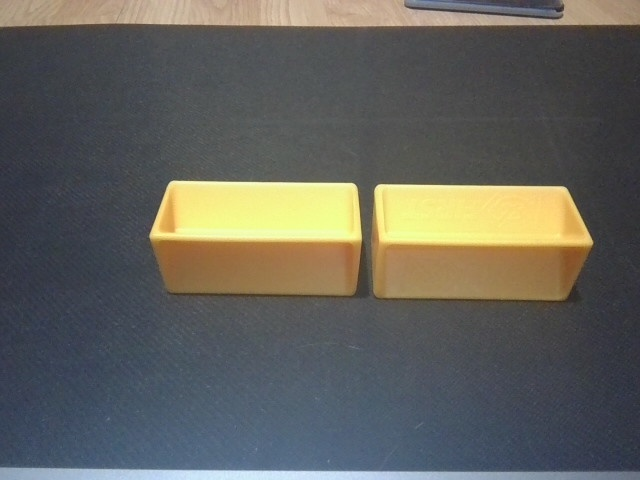YellowSample: (368, 178, 598, 304), (147, 175, 365, 300)
